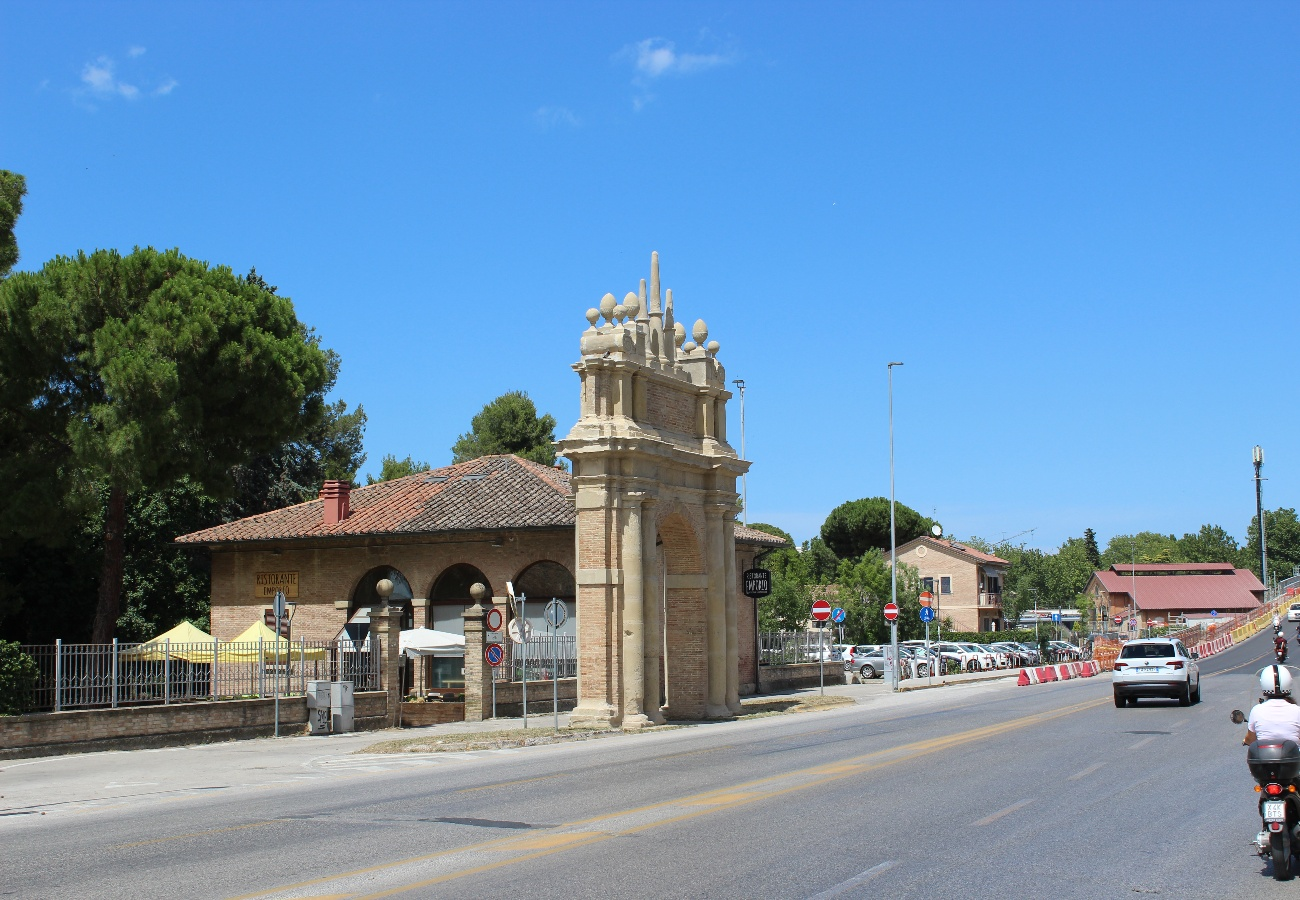Arco di Trionfo: (553, 250, 754, 725)
